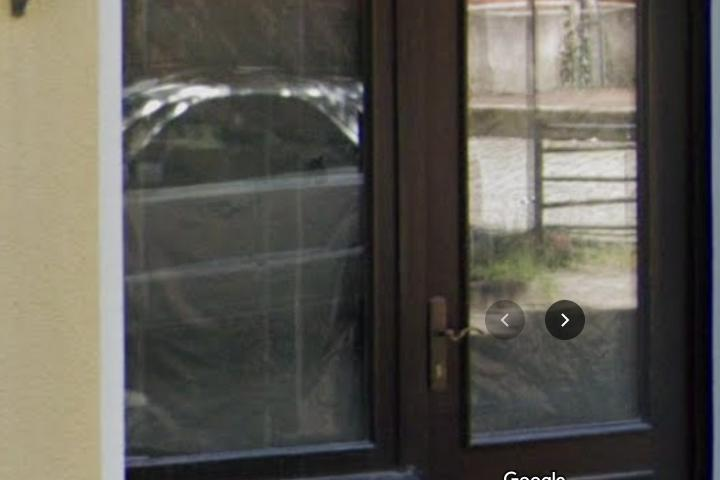google_maps: (545, 300, 586, 341), (486, 302, 524, 341)
